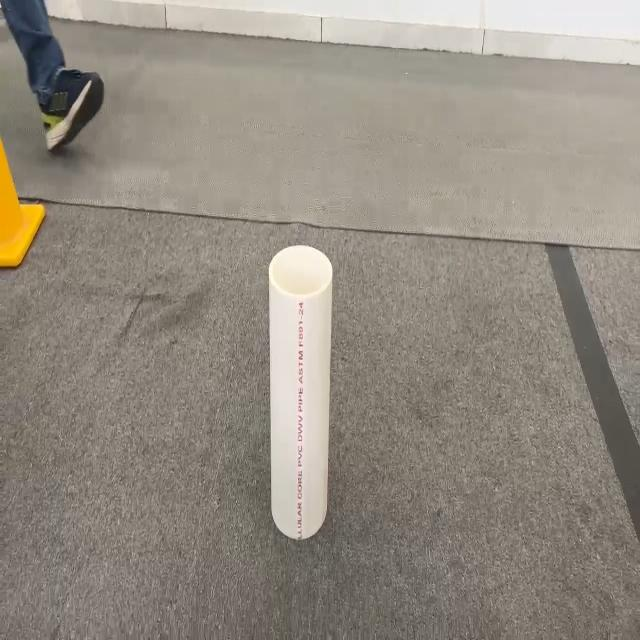coral: (267, 243, 333, 540)
